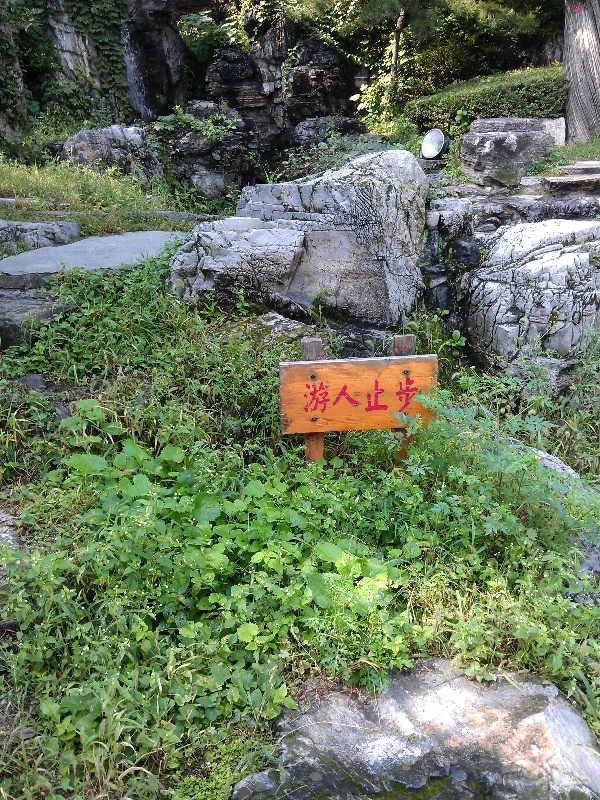text: (305, 375, 320, 417), (321, 375, 336, 417), (337, 375, 352, 417), (353, 375, 368, 417), (369, 375, 384, 417), (385, 375, 400, 417), (401, 375, 416, 417), (417, 375, 423, 417), (301, 375, 304, 417)
